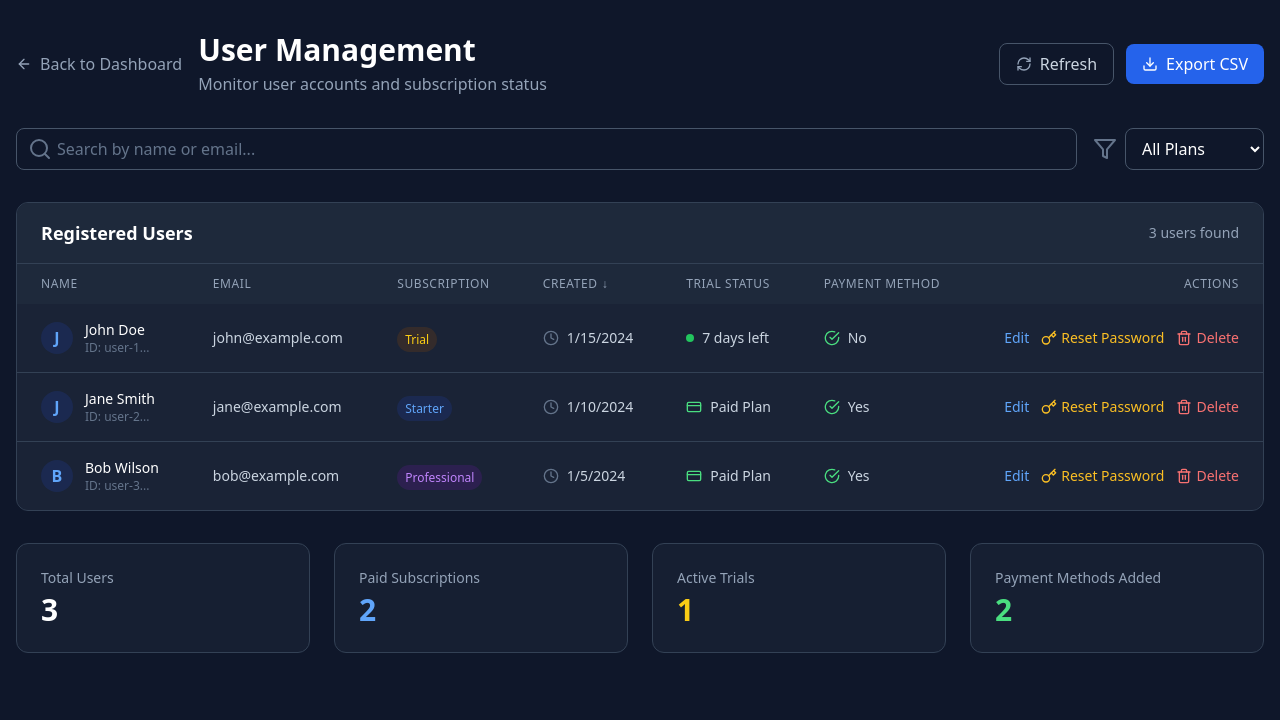
UserDashboard Component › Search Functionality › should filter users by name when searching
Check: the text "John Doe" is shown, box [85, 320, 150, 340]
In the field with placeholder "Search by name or email...": (546, 149) [16, 128, 1077, 170], type "Jane"
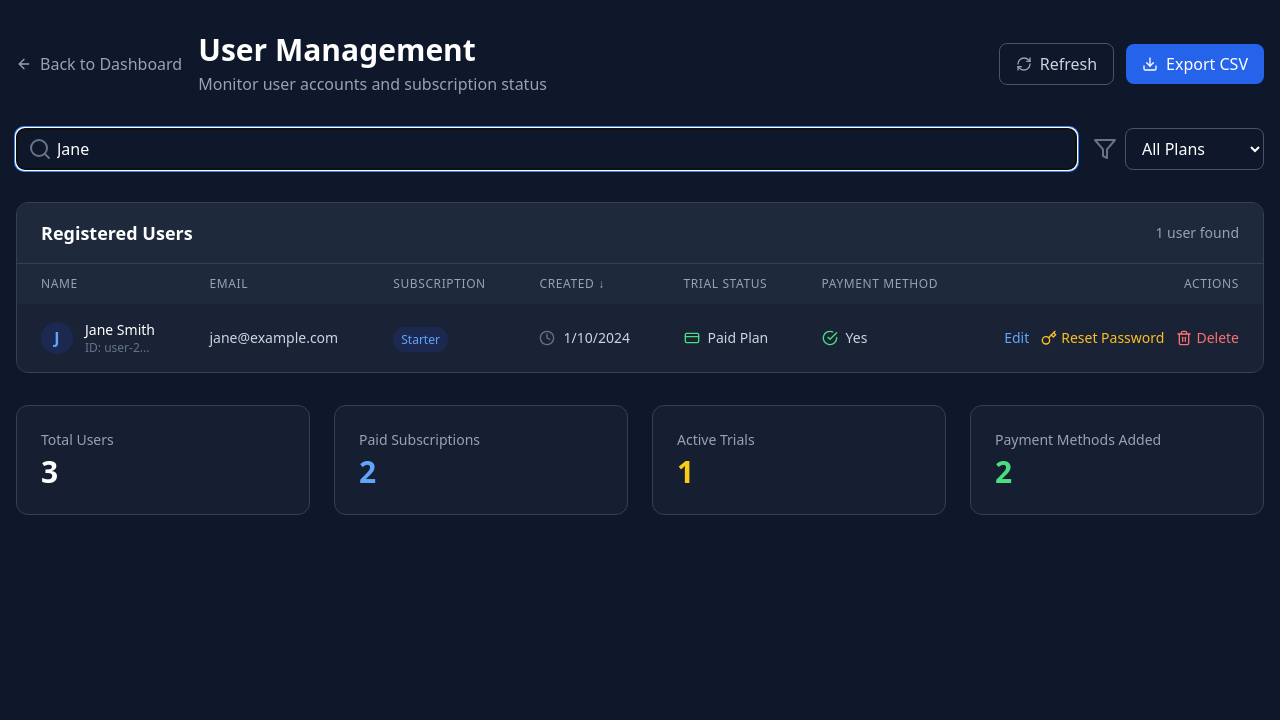
Check: the text "Jane Smith" is shown, box [85, 320, 155, 340]
Check: the text "John Doe" is gone
Check: the text "Bob Wilson" is gone
